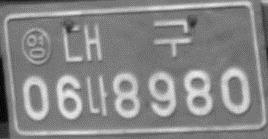0: (219, 67, 252, 115), (20, 73, 49, 123)
6: (55, 74, 84, 121)
8: (181, 68, 214, 117), (112, 71, 142, 120)
9: (147, 70, 177, 119)
나: (84, 75, 111, 118)
대구_D: (60, 15, 194, 64)
영: (19, 26, 53, 65)
